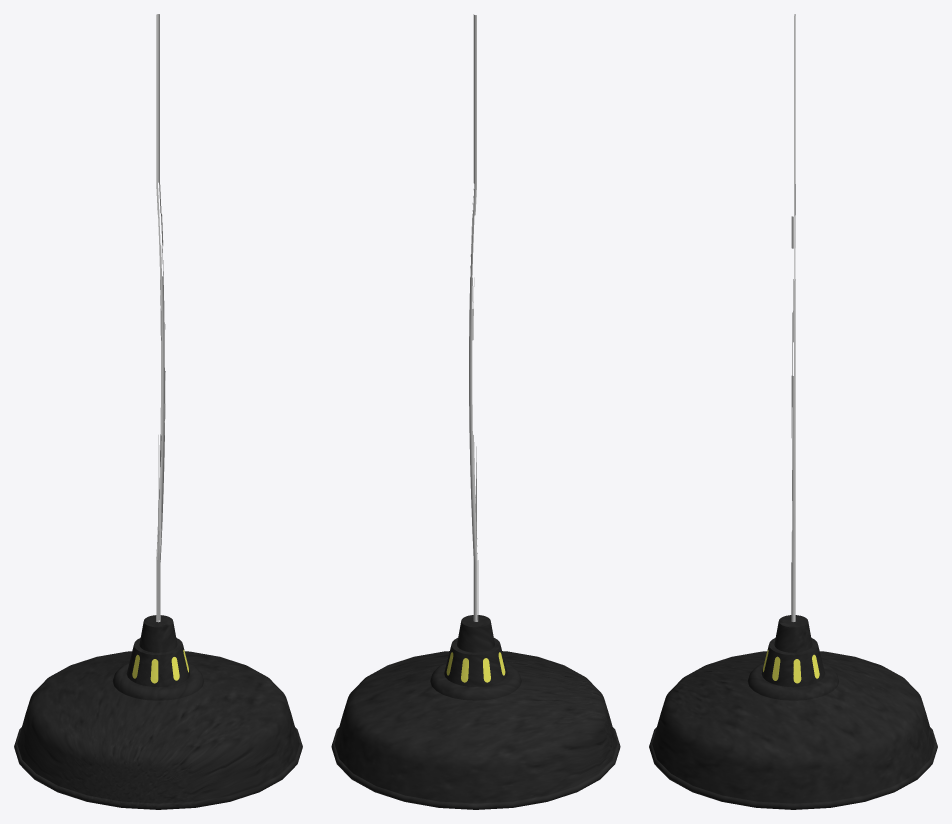
The model's file is lampara.glb.
The picture shows the model from 3 angles, left to right: view 1: azimuth 30°, elevation 25°; view 2: azimuth 150°, elevation 25°; view 3: azimuth 270°, elevation 25°; orthographic projection.
Visible parts, largest first — view 1: Polygon; view 2: Polygon; view 3: Polygon.
Boxes of the visible parts, left/top/right/bottom form: Polygon: left=14, top=14, right=302, bottom=809; Polygon: left=331, top=14, right=620, bottom=809; Polygon: left=649, top=14, right=937, bottom=809.
Bounding box in the file's own units: 53.62 × 151 × 53.62.
Materials: 3 (2 with a texture image).
